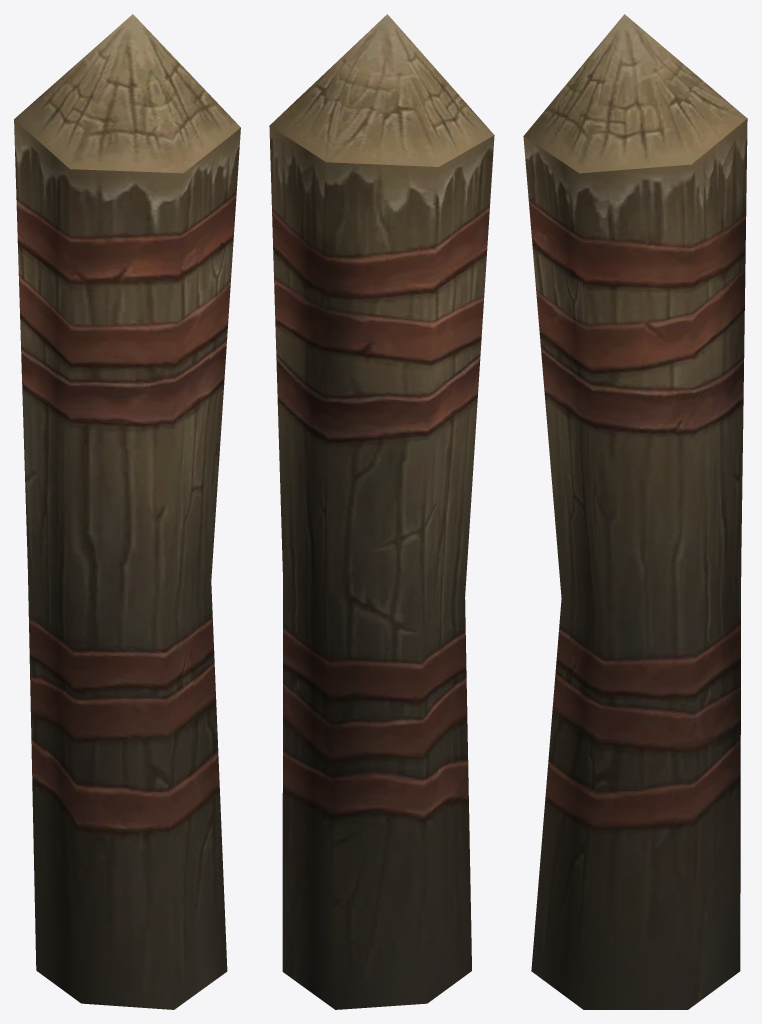
3 renders of one model, left to right at view 1: azimuth 30°, elevation 25°; view 2: azimuth 150°, elevation 25°; view 3: azimuth 270°, elevation 25°, orthographic.
Size of the model in its own units: 0.7345 by 3.94 by 0.8347.
1 material, 1 textured.
